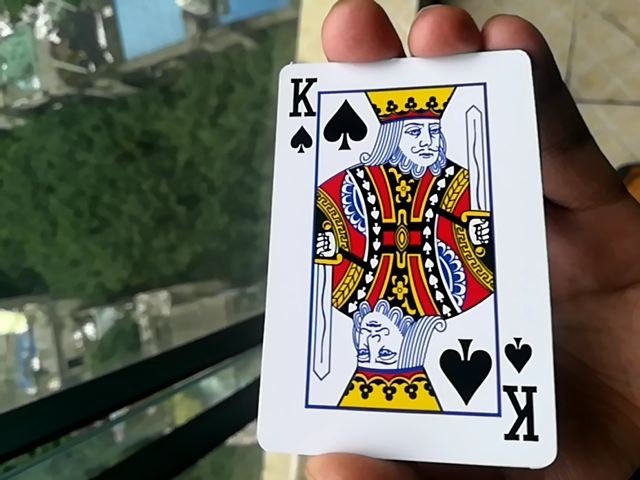ht k: (248, 58, 550, 469)
